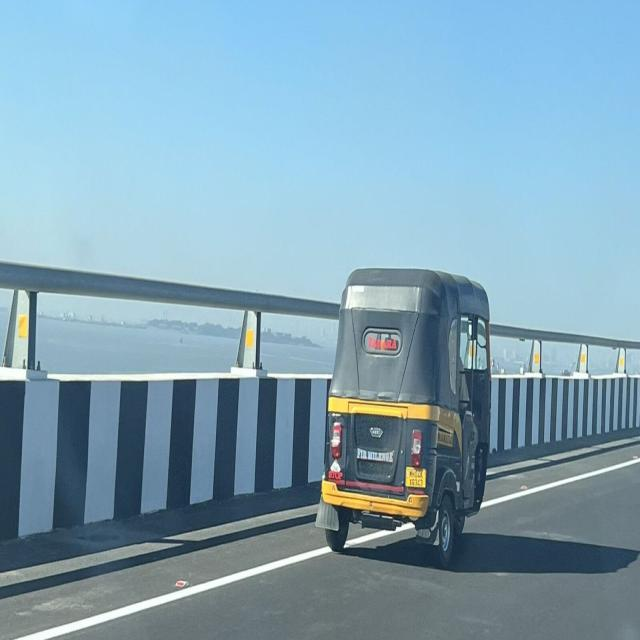autorickshaw: (318, 269, 491, 564)
